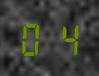four: (49, 20, 78, 56)
zero: (19, 20, 48, 56)
